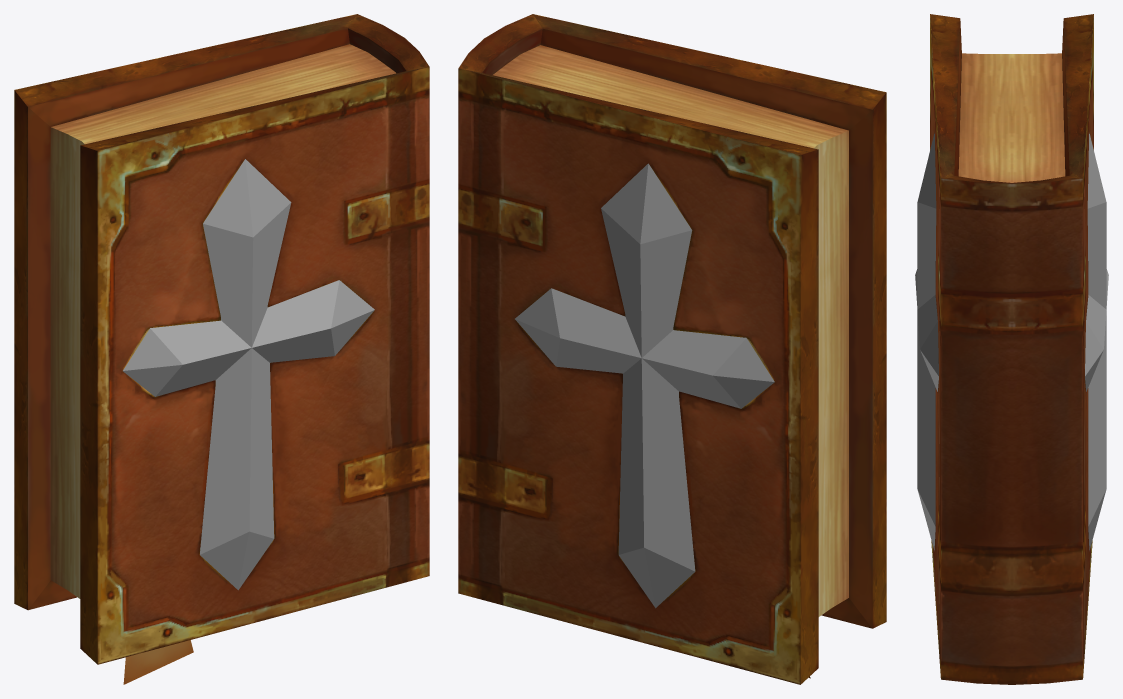
File: MagicBook_01_High.fbx
3 renders of one model, left to right at view 1: azimuth 30°, elevation 25°; view 2: azimuth 150°, elevation 25°; view 3: azimuth 270°, elevation 25°, orthographic. The views are drawn at different scales.
Parts seen in each view (by area): view 1: MagicBook01_High; view 2: MagicBook01_High; view 3: MagicBook01_High.
Boxes of the visible parts, x1,y1,x2,y2 form: MagicBook01_High: (14, 14, 429, 684); MagicBook01_High: (458, 14, 886, 684); MagicBook01_High: (915, 14, 1108, 684).
Bounding box in the file's own units: 21.42 × 32.9 × 10.41.
